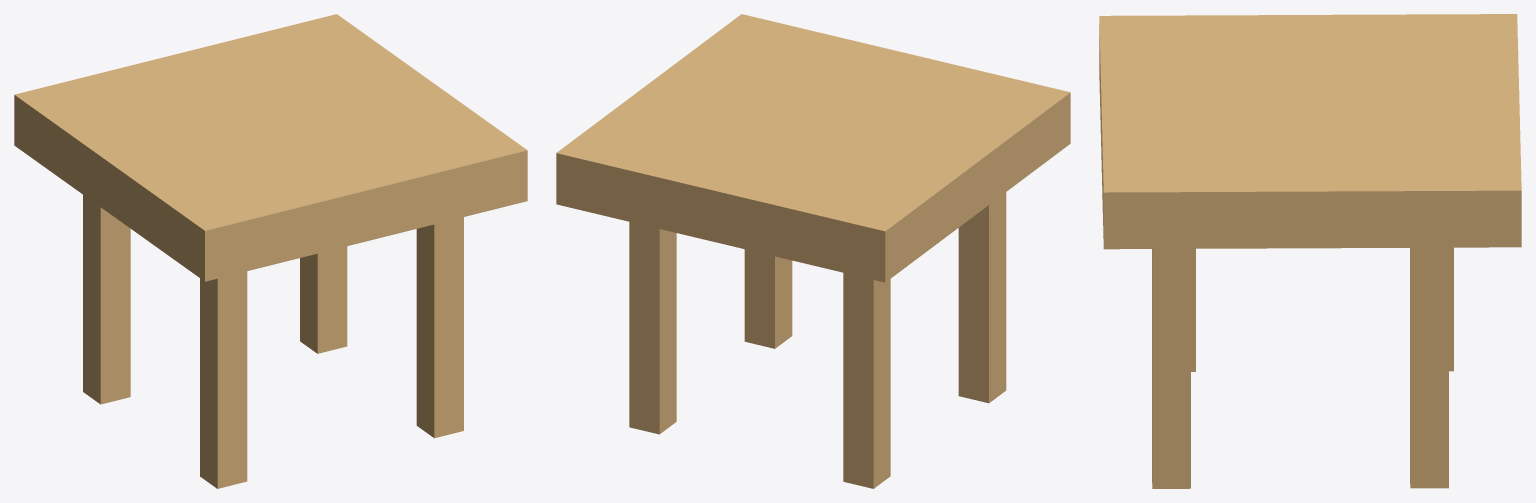
Rendered from SmallTable.fbx.
The picture shows the model from 3 angles, left to right: view 1: azimuth 30°, elevation 25°; view 2: azimuth 150°, elevation 25°; view 3: azimuth 270°, elevation 25°; orthographic projection. The views are drawn at different scales.
Parts seen in each view (by area): view 1: Plane.008_Plane.133; view 2: Plane.008_Plane.133; view 3: Plane.008_Plane.133.
Part boxes in pixels (bbox=[...]): Plane.008_Plane.133: bbox=[14, 14, 527, 488]; Plane.008_Plane.133: bbox=[556, 14, 1070, 488]; Plane.008_Plane.133: bbox=[1099, 14, 1521, 488].
Bounding box in the file's own units: 101 × 84.28 × 101.
